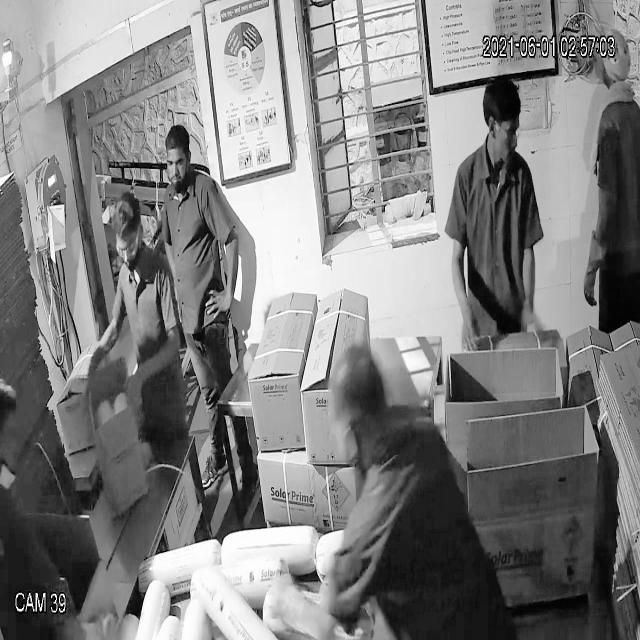glasses: (105, 232, 153, 264)
